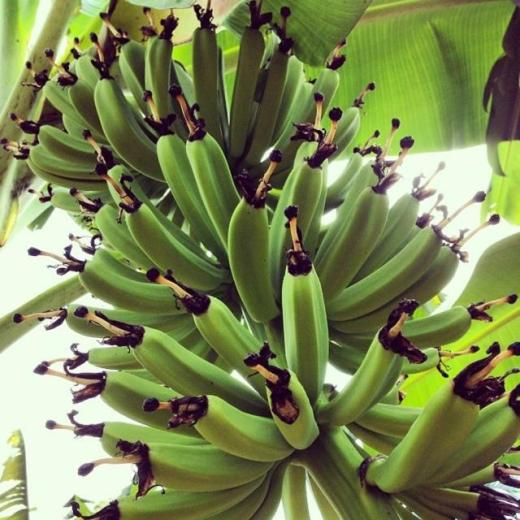Banana: (0, 0, 519, 519), (282, 205, 330, 408)
